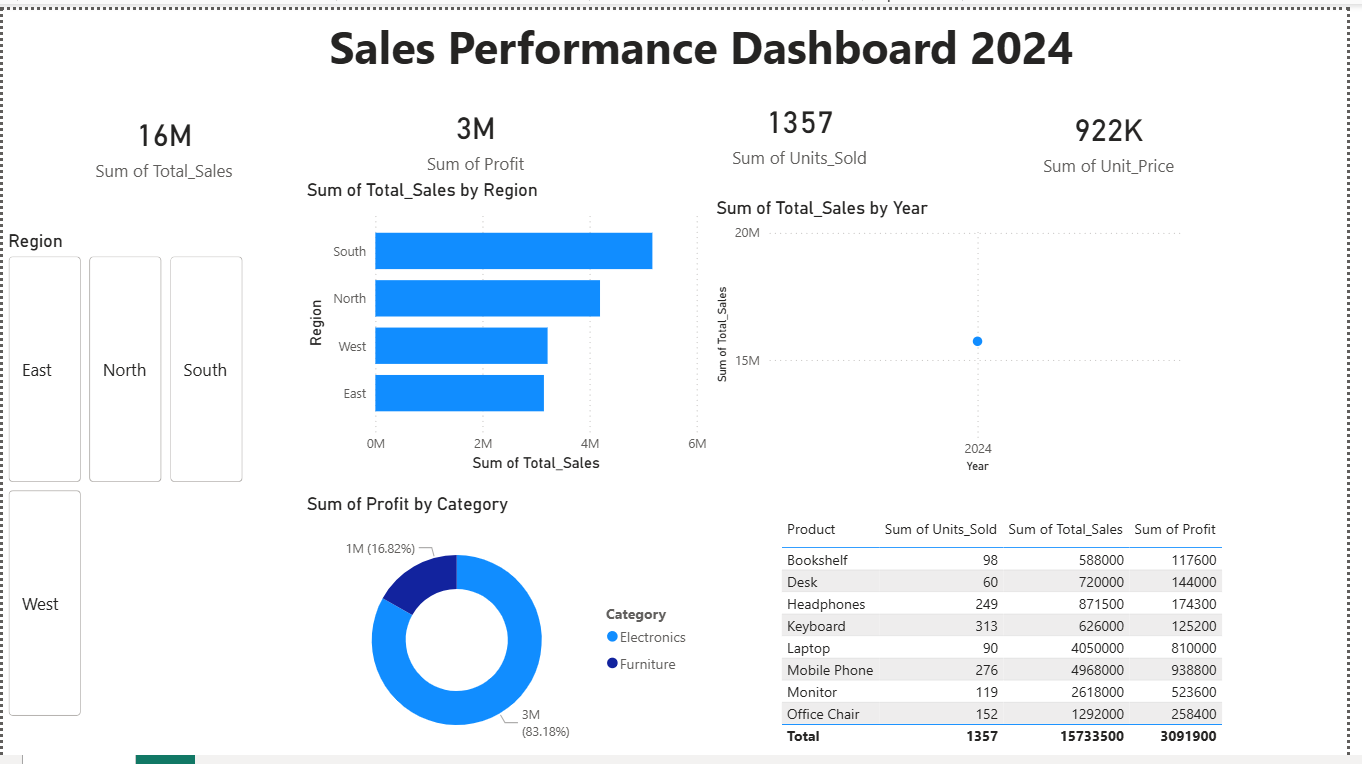

Layout of this report page (visuals, bound fields, positions):
{"tool":"powerbi","page":{"name":"Page 1","canvas":[1280,720],"ordinal":0},"visuals":[{"type":"card","fields":{"Values":["Sum(sales_data.Total_Sales)"]},"box":[0,64,306,128],"z":0},{"type":"card","fields":{"Values":["Sum(sales_data.Profit)"]},"box":[306,50,288,142],"z":1000},{"type":"card","fields":{"Values":["Sum(sales_data.Units_Sold)"]},"box":[594,52,328,128],"z":2000},{"type":"card","fields":{"Values":["Sum(sales_data.Unit_Price)"]},"box":[898,54,308,138],"z":3000},{"type":"clusteredBarChart","fields":{"Category":["sales_data.Region"],"Y":["Sum(sales_data.Total_Sales)"]},"box":[284,162,390,282],"z":4000},{"type":"lineChart","fields":{"Category":["sales_data.Date.Variation.Date Hierarchy.Year","sales_data.Date.Variation.Date Hierarchy.Quarter","sales_data.Date.Variation.Date Hierarchy.Month","sales_data.Date.Variation.Date Hierarchy.Day"],"Y":["Sum(sales_data.Total_Sales)"]},"box":[674,178,456,266],"z":5000},{"type":"donutChart","fields":{"Category":["sales_data.Category"],"Y":["Sum(sales_data.Profit)"]},"box":[284,460,380,260],"z":6000},{"type":"tableEx","fields":{"Values":["sales_data.Product","Sum(sales_data.Units_Sold)","Sum(sales_data.Total_Sales)","Sum(sales_data.Profit)"]},"box":[736,478,434,242],"z":7000},{"type":"advancedSlicerVisual","fields":{"Values":["sales_data.Region"]},"box":[0,210,234,468],"z":8000},{"type":"textbox","box":[306,0,940,78],"z":9000}]}

Visuals, with their boxes in screenshot pixels (x1, y1, x2, y2), scaled from the page's 1280x720 canvas onto the 1362x764 screenshot:
card - Sum(sales_data.Total_Sales): left=0, top=68, right=326, bottom=204
card - Sum(sales_data.Profit): left=326, top=53, right=632, bottom=204
card - Sum(sales_data.Units_Sold): left=632, top=55, right=981, bottom=191
card - Sum(sales_data.Unit_Price): left=956, top=57, right=1283, bottom=204
clusteredBarChart - sales_data.Region x Sum(sales_data.Total_Sales): left=302, top=172, right=717, bottom=471
lineChart - sales_data.Date.Variation.Date Hierarchy.Year x sales_data.Date.Variation.Date Hierarchy.Quarter: left=717, top=189, right=1202, bottom=471
donutChart - sales_data.Category x Sum(sales_data.Profit): left=302, top=488, right=707, bottom=763
tableEx - sales_data.Product x Sum(sales_data.Units_Sold): left=783, top=507, right=1245, bottom=763
advancedSlicerVisual - sales_data.Region: left=0, top=223, right=249, bottom=719
textbox: left=326, top=0, right=1326, bottom=83
